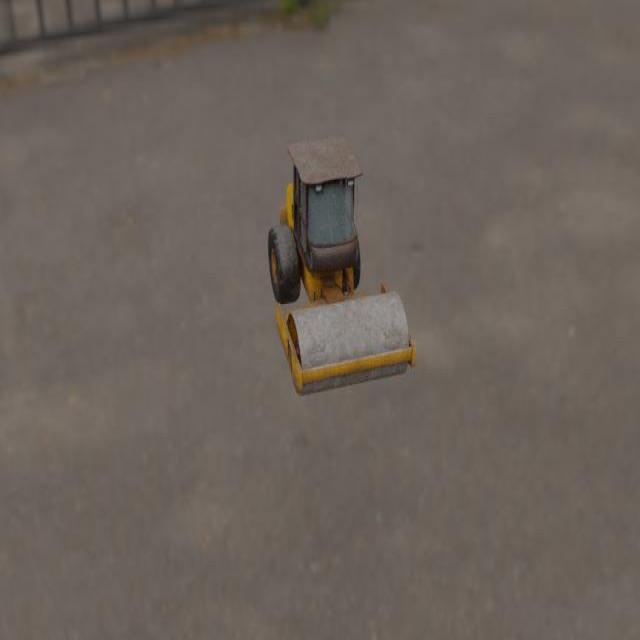Roller: (267, 136, 416, 396)
